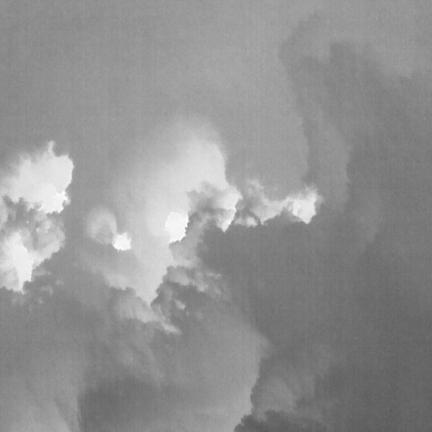flukeprints: (5, 234, 34, 289), (288, 189, 320, 223), (165, 212, 188, 242), (40, 190, 68, 213), (112, 232, 130, 251)
